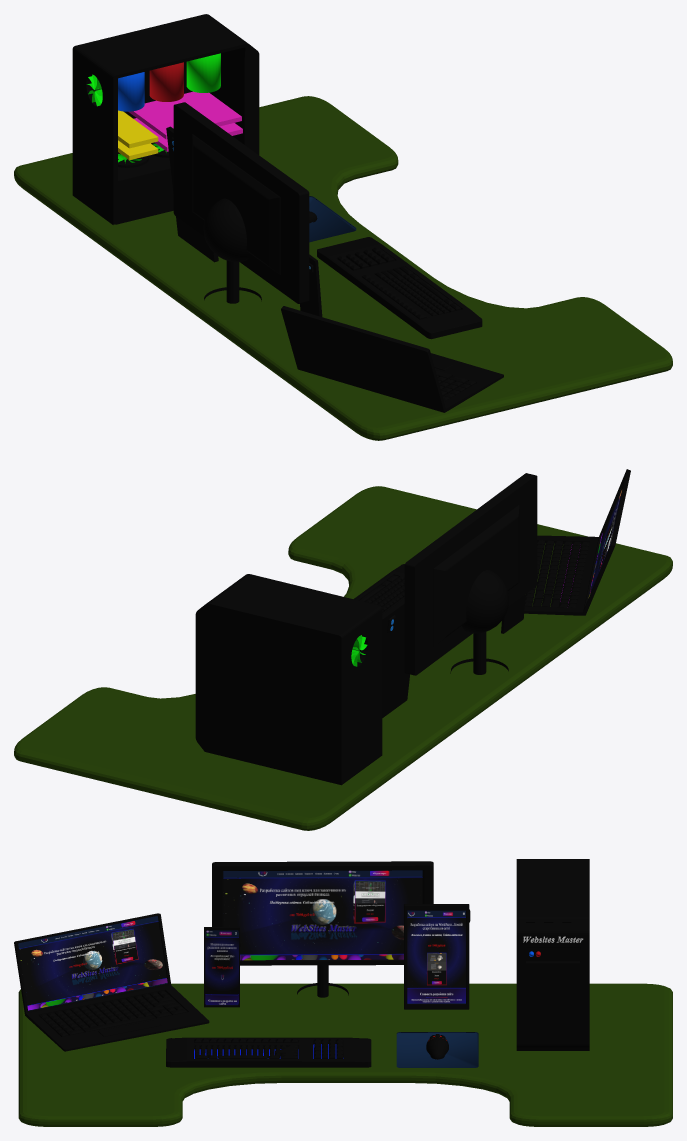
The model's file is serv.gltf.
3 views of the same model, one above another, from view 1: azimuth 30°, elevation 25°; view 2: azimuth 150°, elevation 25°; view 3: azimuth 270°, elevation 25° (orthographic). The views are drawn at different scales.
Visible parts, largest first — view 1: Цилиндр; view 2: Цилиндр; view 3: Цилиндр.
Part boxes in pixels (bbox=[...]): Цилиндр: bbox=[14, 14, 672, 440]; Цилиндр: bbox=[14, 469, 672, 830]; Цилиндр: bbox=[14, 859, 672, 1126].
Size of the model in its own units: 12.9 by 6.27 by 25.54.
Materials: 25 (4 with a texture image).
